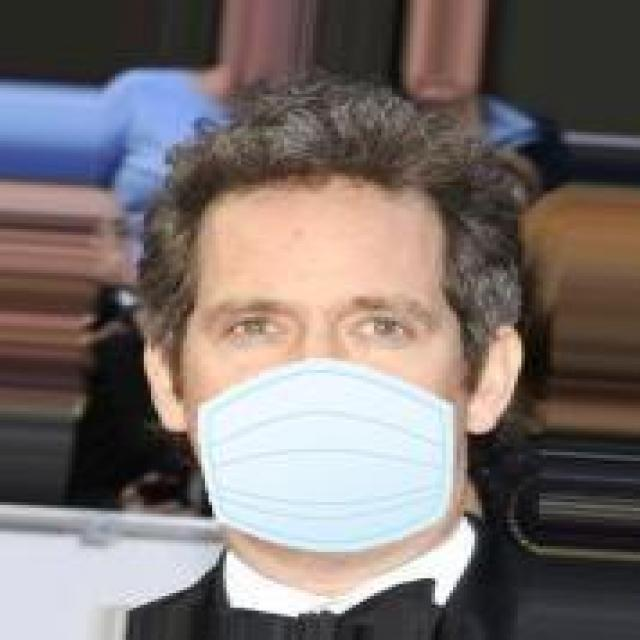mask: (58, 56, 572, 566)
